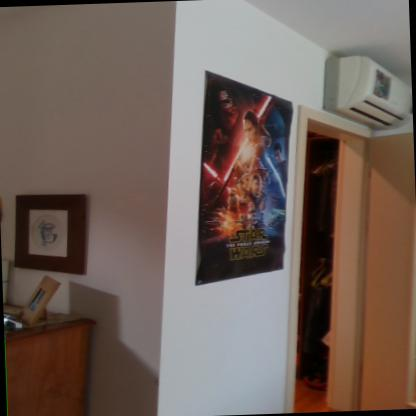open: (289, 93, 415, 413)
